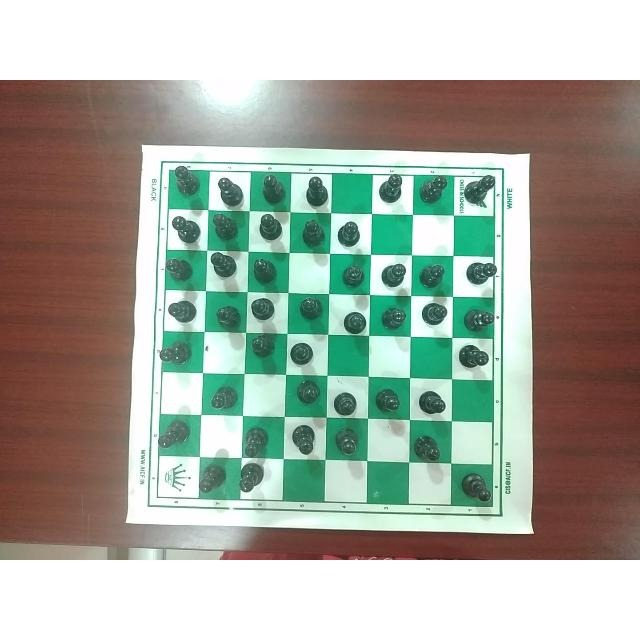black-pawn: (286, 423, 322, 461), (156, 416, 192, 452), (464, 171, 496, 211), (459, 471, 493, 507), (202, 382, 240, 414), (164, 293, 198, 328), (456, 341, 490, 375), (169, 163, 201, 199), (213, 173, 246, 207), (414, 387, 448, 420), (410, 430, 443, 464), (376, 259, 408, 294), (459, 260, 499, 288), (418, 173, 449, 209), (329, 426, 363, 458), (373, 384, 404, 419), (164, 252, 196, 285), (416, 299, 449, 331), (257, 170, 287, 205), (300, 173, 329, 209), (376, 171, 405, 207), (158, 338, 194, 367), (209, 213, 241, 245), (415, 260, 447, 292), (376, 303, 408, 335), (298, 216, 327, 251), (459, 306, 495, 334), (199, 462, 227, 498), (206, 250, 237, 282), (292, 377, 324, 408), (242, 424, 270, 459), (170, 215, 202, 245), (334, 217, 362, 249), (249, 332, 277, 364), (287, 340, 319, 368), (332, 387, 360, 419), (254, 213, 285, 241), (251, 254, 279, 285), (212, 304, 243, 332), (238, 462, 264, 495), (250, 296, 278, 326), (340, 262, 368, 291), (296, 295, 324, 322), (338, 310, 367, 336)
